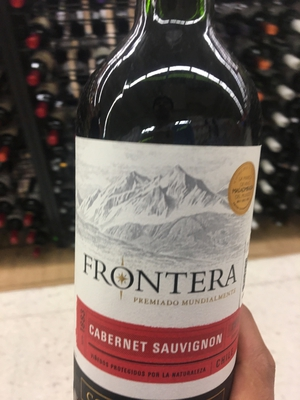frontera cabernet sauvignon: (71, 16, 252, 400)
